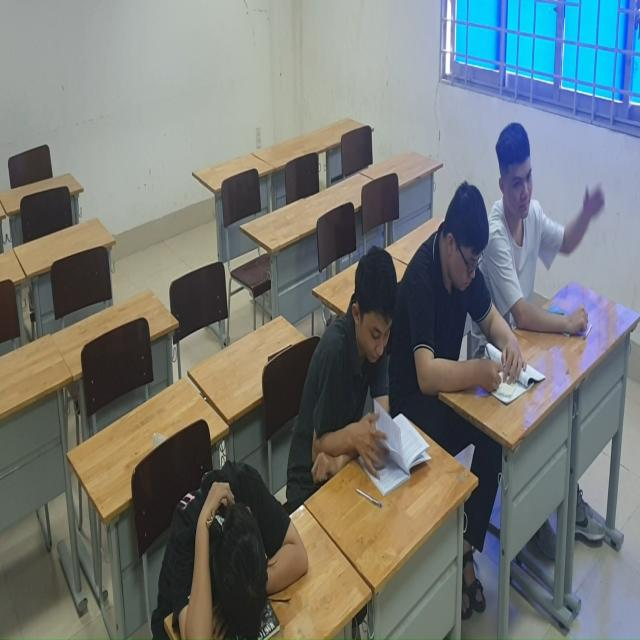raise_hand: (489, 117, 606, 356)
read: (303, 242, 431, 506), (417, 184, 529, 431)
sleep: (152, 458, 311, 640)
